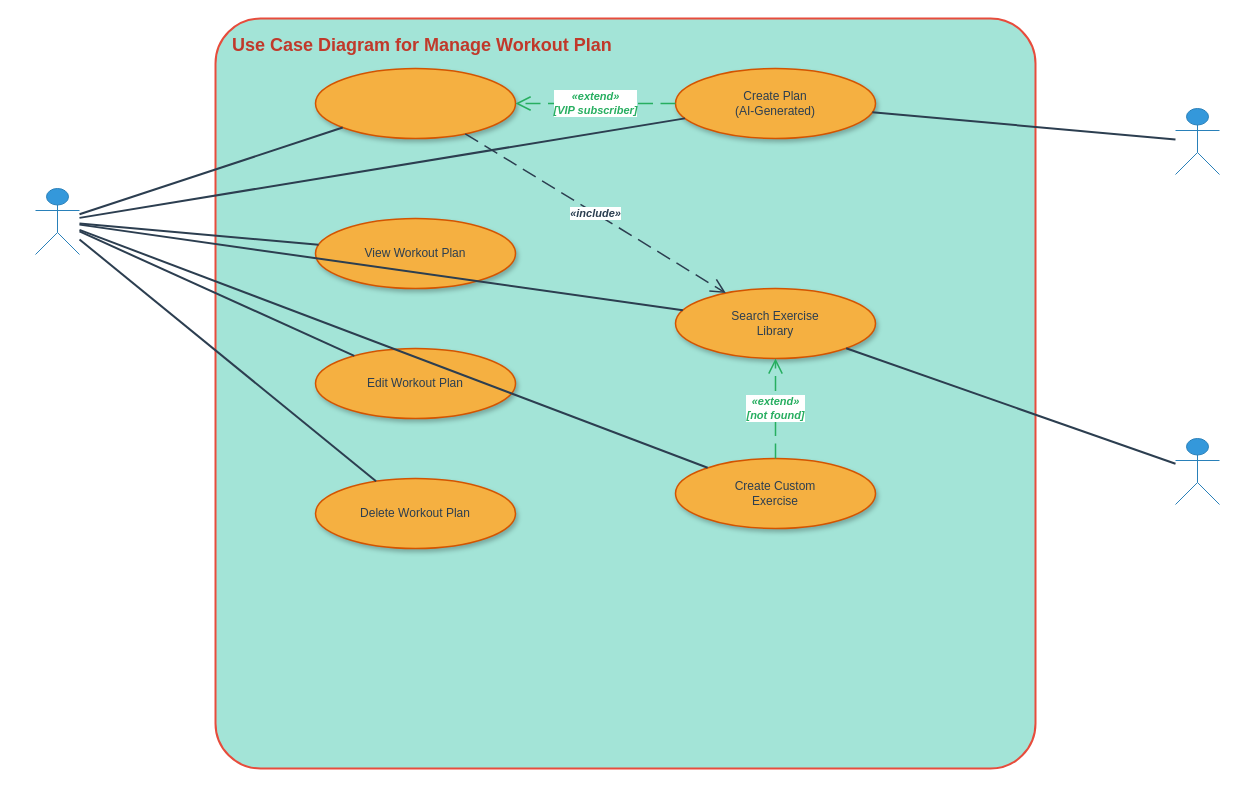
Some shapes in this 1242 by 786 pixel diagram are drawn without their labels. Here are the shapes that lost their labels. From the top down, the centre of each, then its label:
point (416, 104): Create Plan (Manual)
point (1197, 141): AI Service
point (57, 221): Authenticated User
point (1197, 471): Exercise Library DB
